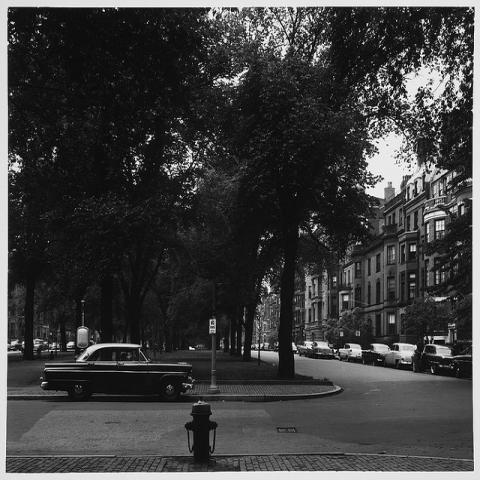car: (39, 343, 198, 413), (418, 344, 458, 377), (381, 341, 414, 369), (361, 343, 390, 366), (338, 343, 363, 362), (308, 342, 334, 360), (454, 356, 473, 379), (297, 341, 313, 357), (32, 339, 48, 351), (8, 341, 22, 351), (260, 343, 269, 350), (273, 342, 279, 352), (67, 342, 75, 349)
